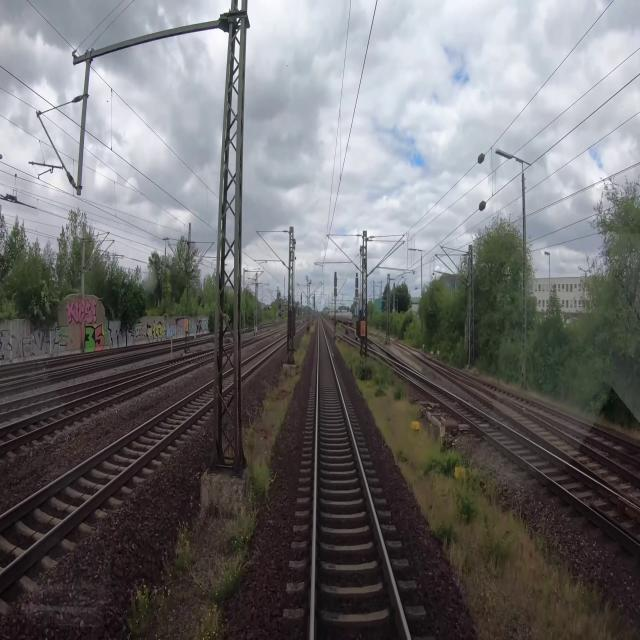Plant: (334, 336, 624, 639), (107, 318, 318, 639)
